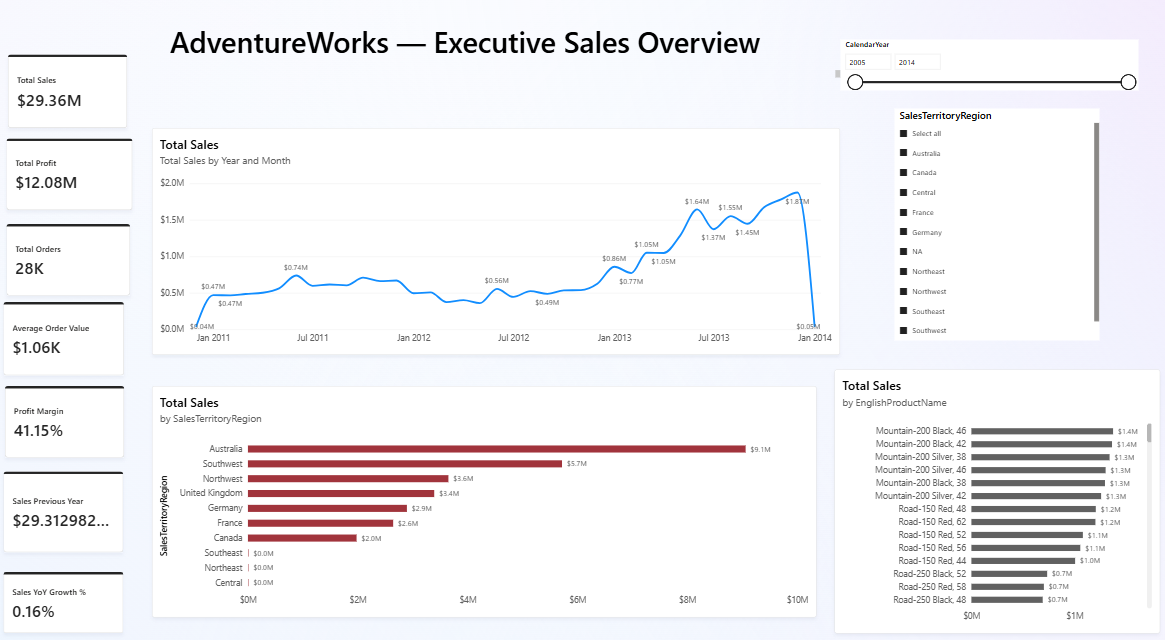

The page's visual inventory and layout, read from the dashboard file:
{"tool":"powerbi","page":{"name":"Executive Sales","canvas":[1920,1080],"ordinal":0},"visuals":[{"type":"cardVisual","fields":{"Data":["Measure.Total Sales"]},"box":[34,104.4,193.3,119.3],"z":0},{"type":"cardVisual","fields":{"Data":["Measure.Total Profit"]},"box":[31.6,240.5,204,116],"z":1000},{"type":"cardVisual","fields":{"Data":["Measure.Total Orders"]},"box":[31.6,378.9,200.4,116.9],"z":2000},{"type":"cardVisual","fields":{"Data":["Measure.Average Order Value"]},"box":[26.7,505.2,195.6,119.3],"z":3000},{"type":"cardVisual","fields":{"Data":["Measure.Profit Margin"]},"box":[29.1,641.2,193.3,116.9],"z":4000},{"type":"lineChart","title":"Total Sales","fields":{"Category":["DimDate.FullDateAlternateKey.Variation.Date Hierarchy.Year","DimDate.FullDateAlternateKey.Variation.Date Hierarchy.Month","DimDate.FullDateAlternateKey.Variation.Date Hierarchy.Day"],"Y":["Measure.Total Sales"]},"box":[267.2,224.3,1114.2,367.4],"z":5000},{"type":"clusteredBarChart","fields":{"Category":["DimProduct.EnglishProductName"],"Y":["Measure.Total Sales"]},"box":[1371.9,615.6,527.3,427.1],"z":6000},{"type":"clusteredBarChart","fields":{"Category":["DimTerritory.SalesTerritoryRegion"],"Y":["Measure.Total Sales"]},"box":[267.2,641.8,1076,374.6],"z":7000},{"type":"slicer","fields":{"Values":["DimDate.CalendarYear"]},"box":[1382,80.2,482,81.1],"z":8000},{"type":"slicer","fields":{"Values":["DimTerritory.SalesTerritoryRegion"]},"box":[1469.7,190.9,331.6,374.6],"z":9000},{"type":"textbox","title":"AdventureWorks — Executive Sales Overview","box":[295.9,50.1,1085.6,90.7],"z":10000},{"type":"cardVisual","fields":{"Data":["Measure.Sales Previous Year"]},"box":[26.7,779.7,194.3,131.2],"z":11000},{"type":"cardVisual","fields":{"Data":["Measure.Sales YoY Growth %"]},"box":[26.7,942.4,194.3,99.6],"z":12000}]}

Visuals, with their boxes in screenshot pixels (x1, y1, x2, y2), scaled from the page's 1920x1080 canvas onto the 1165x640 screenshot:
cardVisual - Measure.Total Sales: box(21, 62, 138, 133)
cardVisual - Measure.Total Profit: box(19, 143, 143, 211)
cardVisual - Measure.Total Orders: box(19, 225, 141, 294)
cardVisual - Measure.Average Order Value: box(16, 299, 135, 370)
cardVisual - Measure.Profit Margin: box(18, 380, 135, 449)
"Total Sales" lineChart: box(162, 133, 838, 351)
clusteredBarChart - DimProduct.EnglishProductName x Measure.Total Sales: box(832, 365, 1152, 618)
clusteredBarChart - DimTerritory.SalesTerritoryRegion x Measure.Total Sales: box(162, 380, 815, 602)
slicer - DimDate.CalendarYear: box(839, 48, 1131, 96)
slicer - DimTerritory.SalesTerritoryRegion: box(892, 113, 1093, 335)
"AdventureWorks — Executive Sales Overview" textbox: box(180, 30, 838, 83)
cardVisual - Measure.Sales Previous Year: box(16, 462, 134, 540)
cardVisual - Measure.Sales YoY Growth %: box(16, 558, 134, 617)
